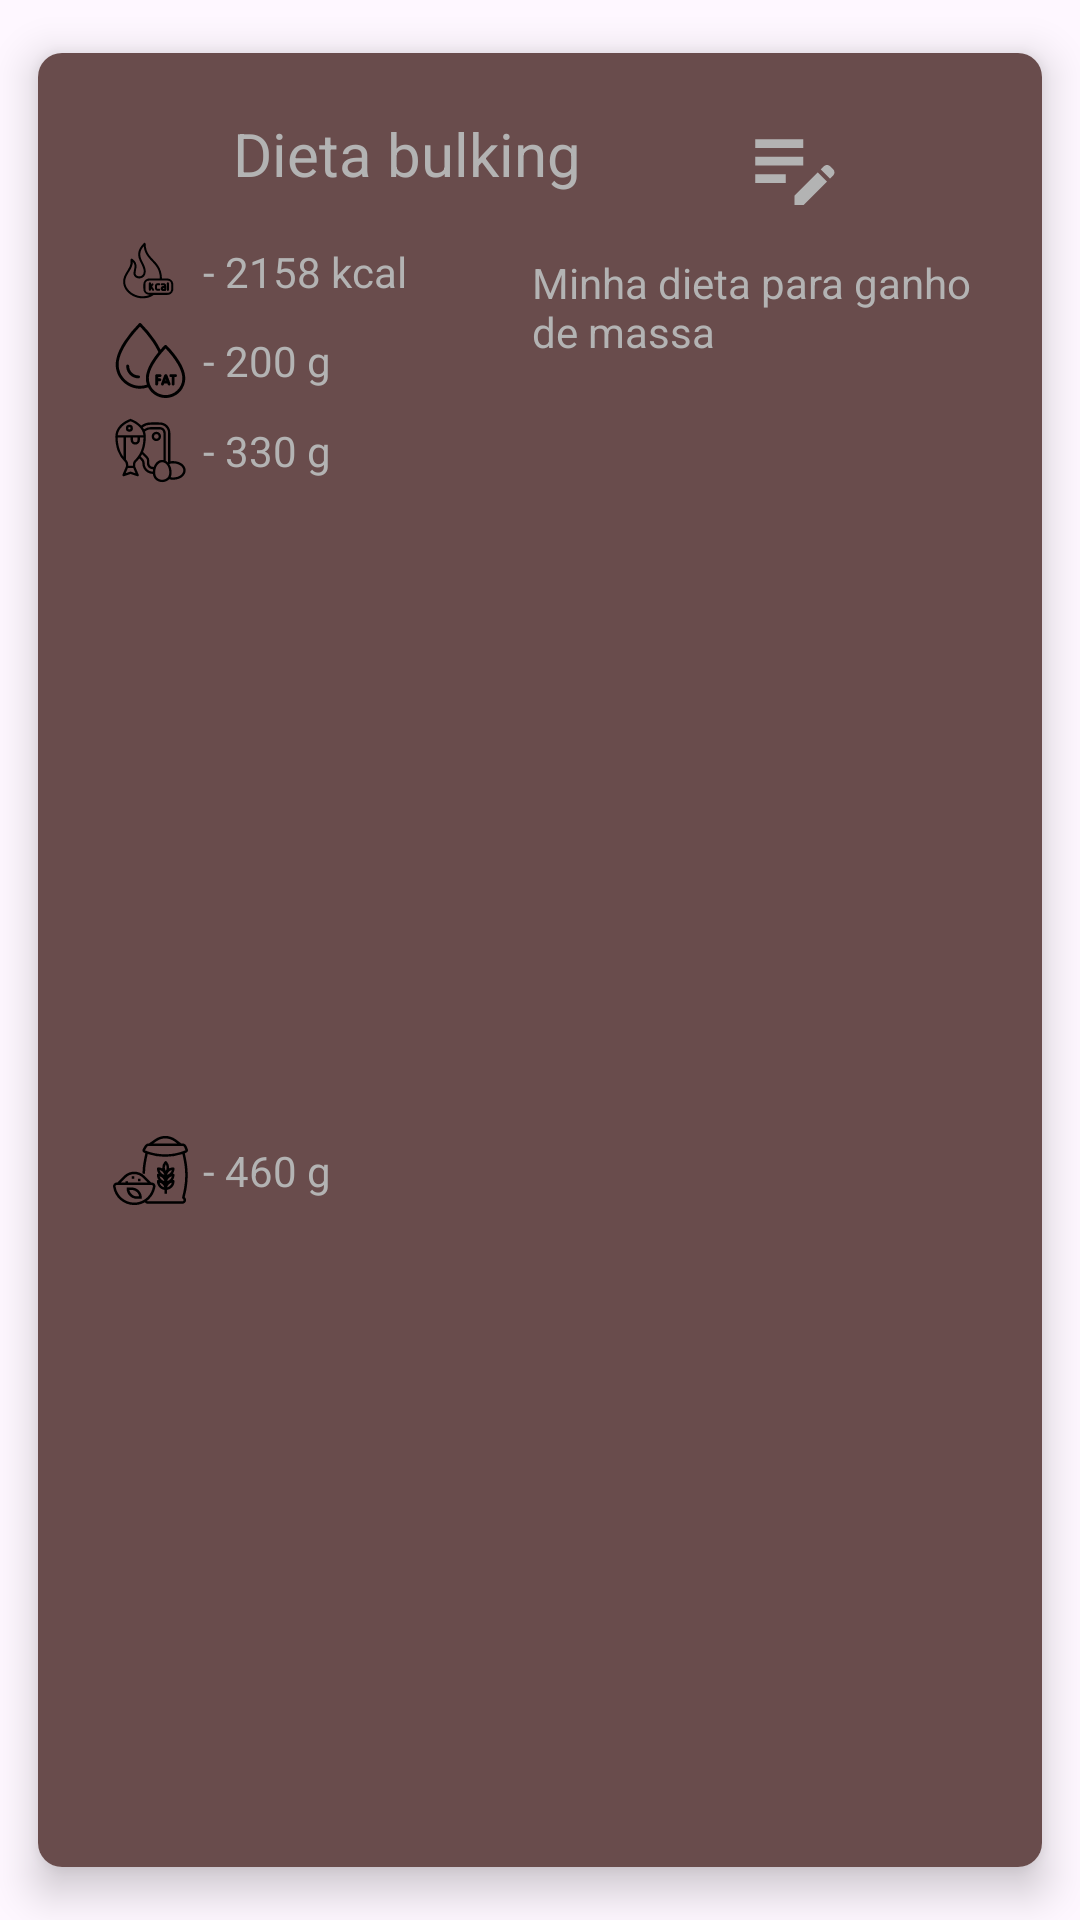

Screen size 1080 × 1920. Icon name, then its box in pixels as Rect(x1, y1, x2, y2):
carb: Rect(113, 1136, 188, 1205)
edit note: Rect(755, 139, 835, 205)
protein: Rect(115, 419, 186, 482)
